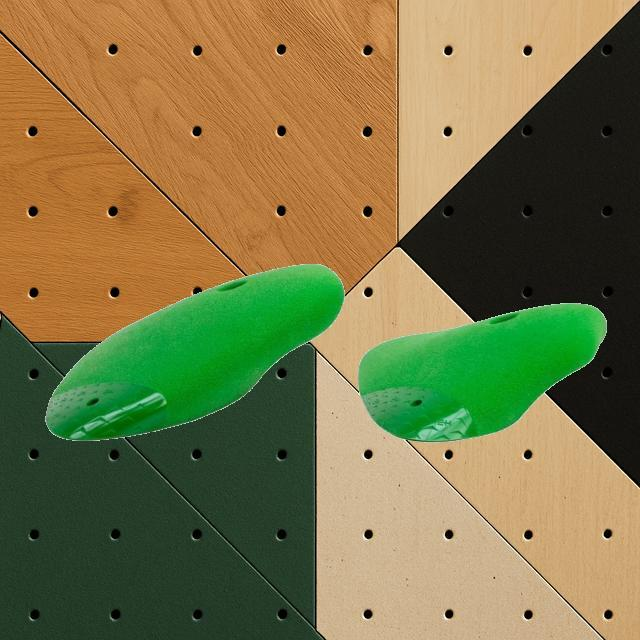Jug: (44, 262, 344, 442), (357, 302, 607, 442)
